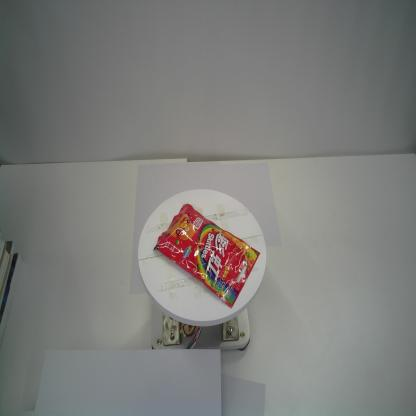Candy: (151, 202, 261, 312)
